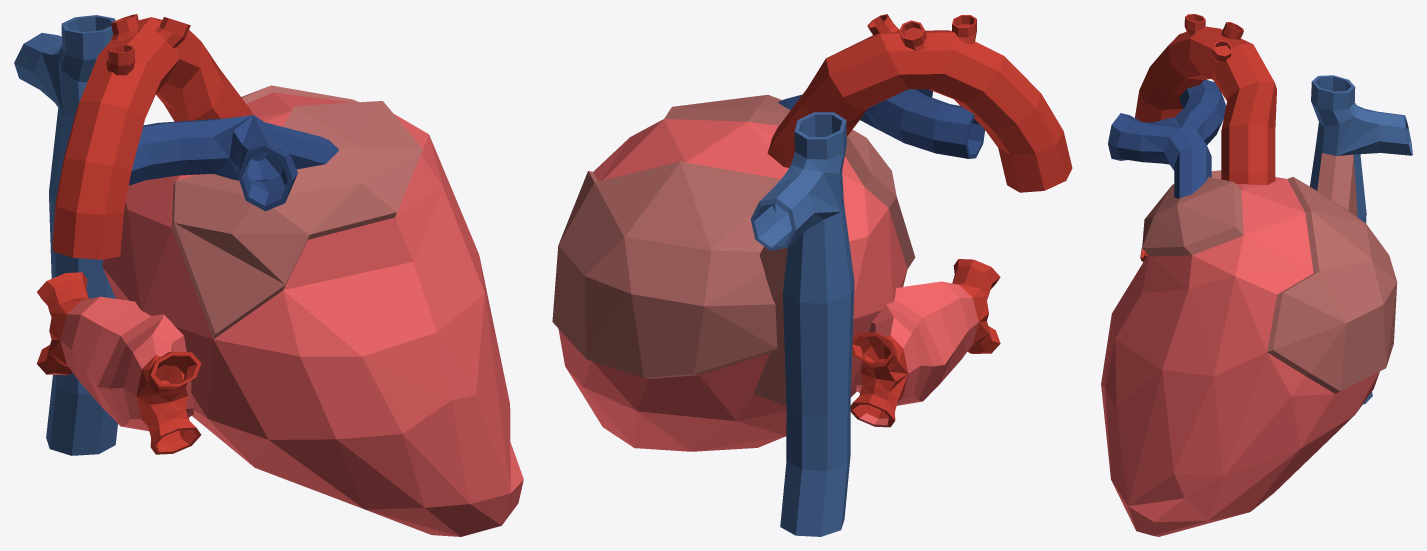
The model's file is Heart.fbx.
3 renders of one model, left to right at view 1: azimuth 30°, elevation 25°; view 2: azimuth 150°, elevation 25°; view 3: azimuth 270°, elevation 25°, orthographic. The views are drawn at different scales.
Visible parts, largest first — view 1: Heart; view 2: Heart; view 3: Heart.
Part boxes in pixels (left/top/right/bottom): Heart: left=14, top=14, right=523, bottom=536; Heart: left=552, top=14, right=1072, bottom=536; Heart: left=1101, top=14, right=1412, bottom=536.
Bounding box in the file's own units: 147 × 161 × 113.
